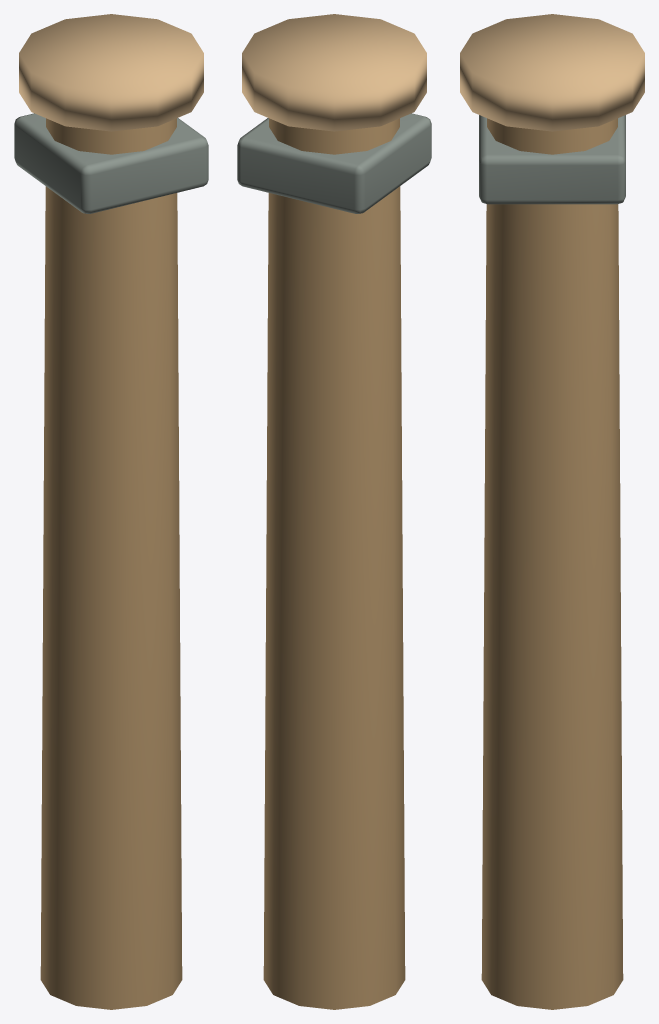
File: pier_post.glb
The picture shows the model from 3 angles, left to right: view 1: azimuth 30°, elevation 25°; view 2: azimuth 150°, elevation 25°; view 3: azimuth 270°, elevation 25°; orthographic projection.
Size of the model in its own units: 0.34 by 1.88 by 0.34.
